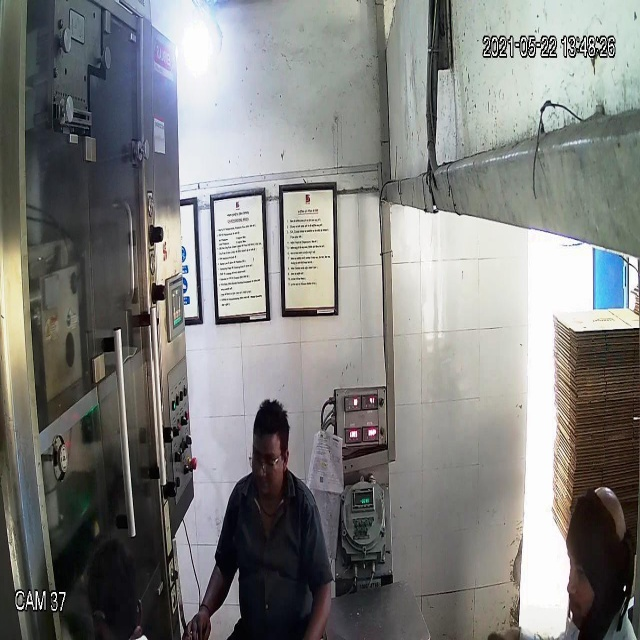Gafas: (245, 445, 290, 474)
